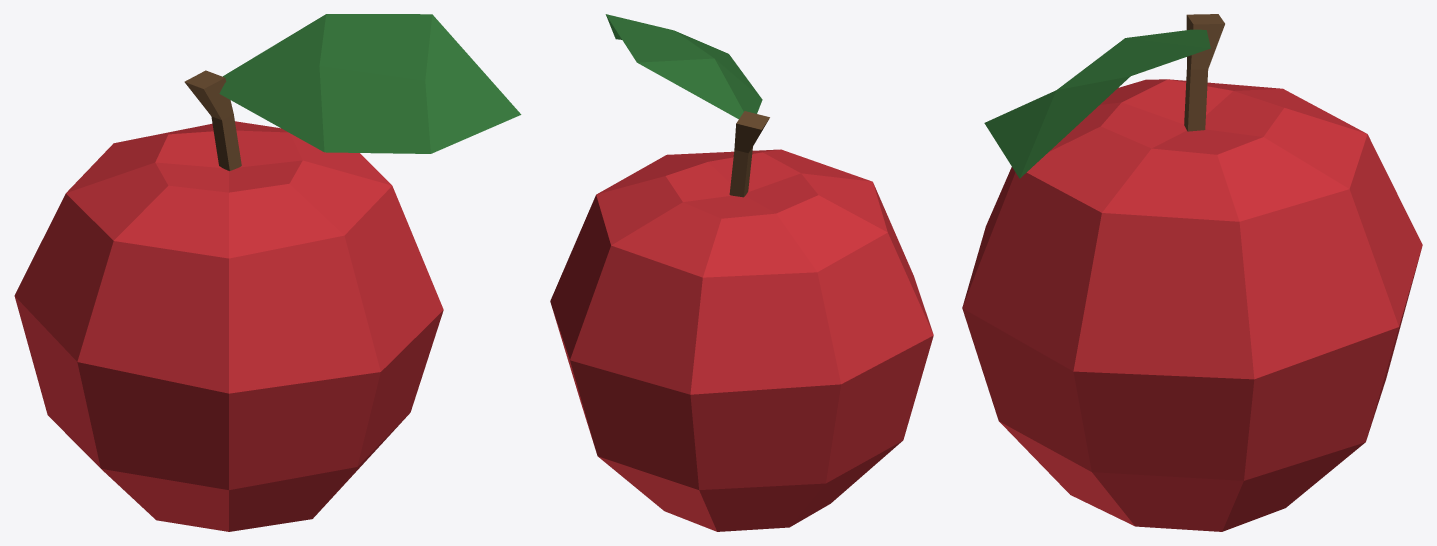
File: apple.glb
3 renders of one model, left to right at view 1: azimuth 30°, elevation 25°; view 2: azimuth 150°, elevation 25°; view 3: azimuth 270°, elevation 25°, orthographic. The views are drawn at different scales.
Parts seen in each view (by area): view 1: apple; view 2: apple; view 3: apple.
Boxes of the visible parts, x1=… form: apple: x1=14, y1=14, x2=521, y2=531; apple: x1=550, y1=14, x2=933, y2=531; apple: x1=962, y1=14, x2=1422, y2=531.
Size of the model in its own units: 0.1404 by 0.1594 by 0.128.
Materials: 1 (1 with a texture image).
